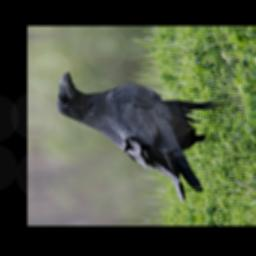Crow: (55, 65, 234, 207)
